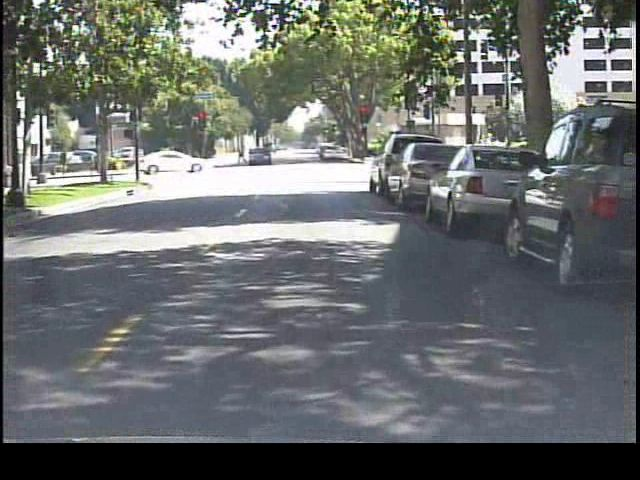person: (235, 142, 249, 167)
